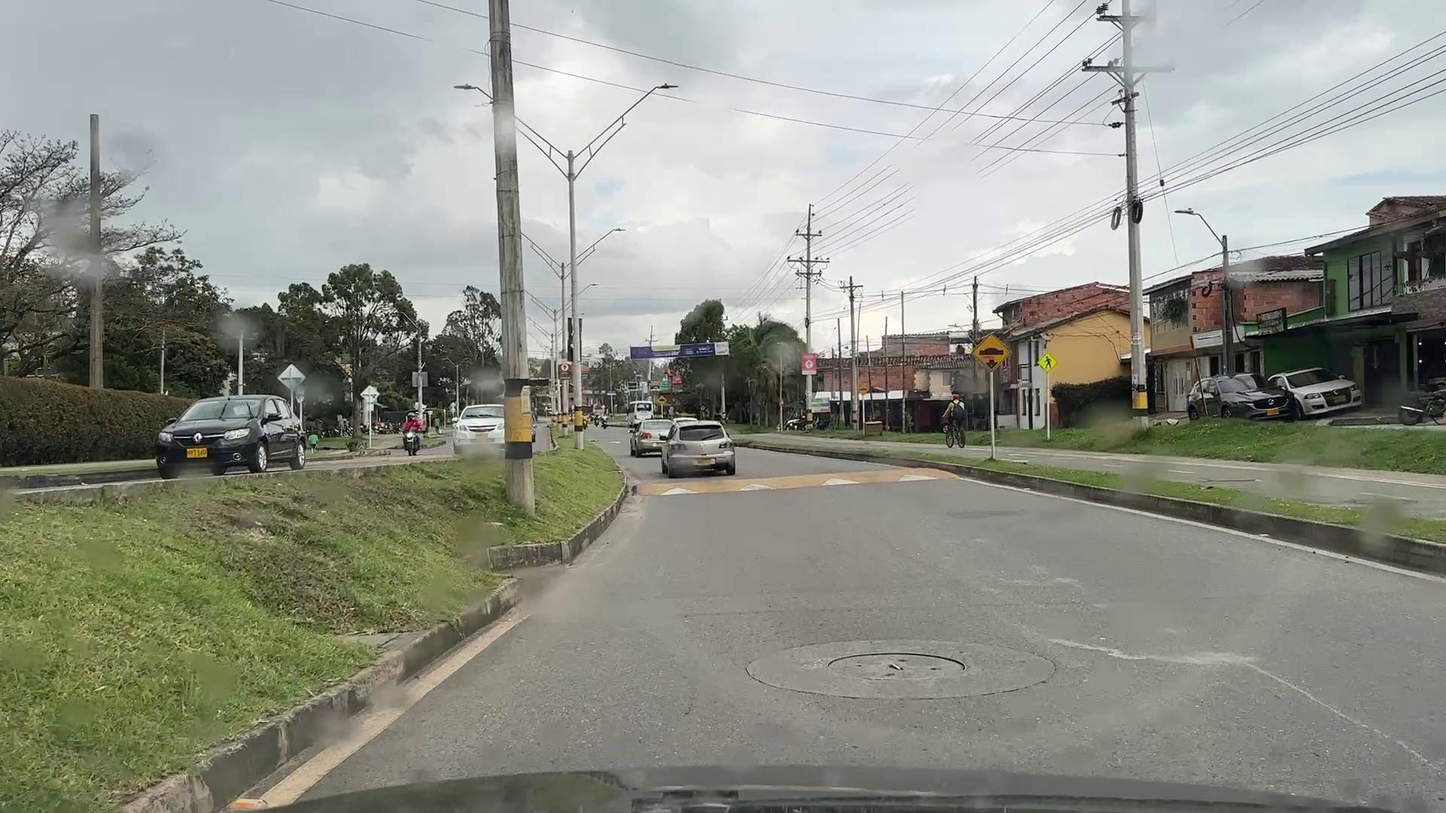registro: (828, 653, 965, 678)
rejilla: (519, 578, 544, 596)
